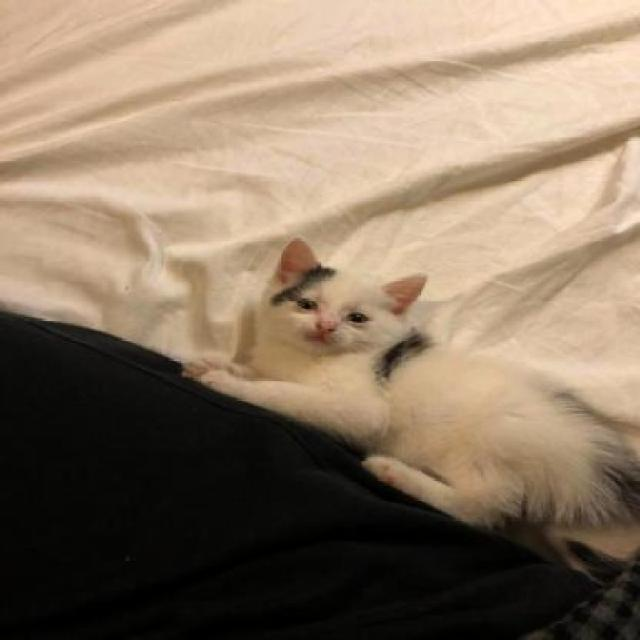cat: (171, 234, 640, 546)
